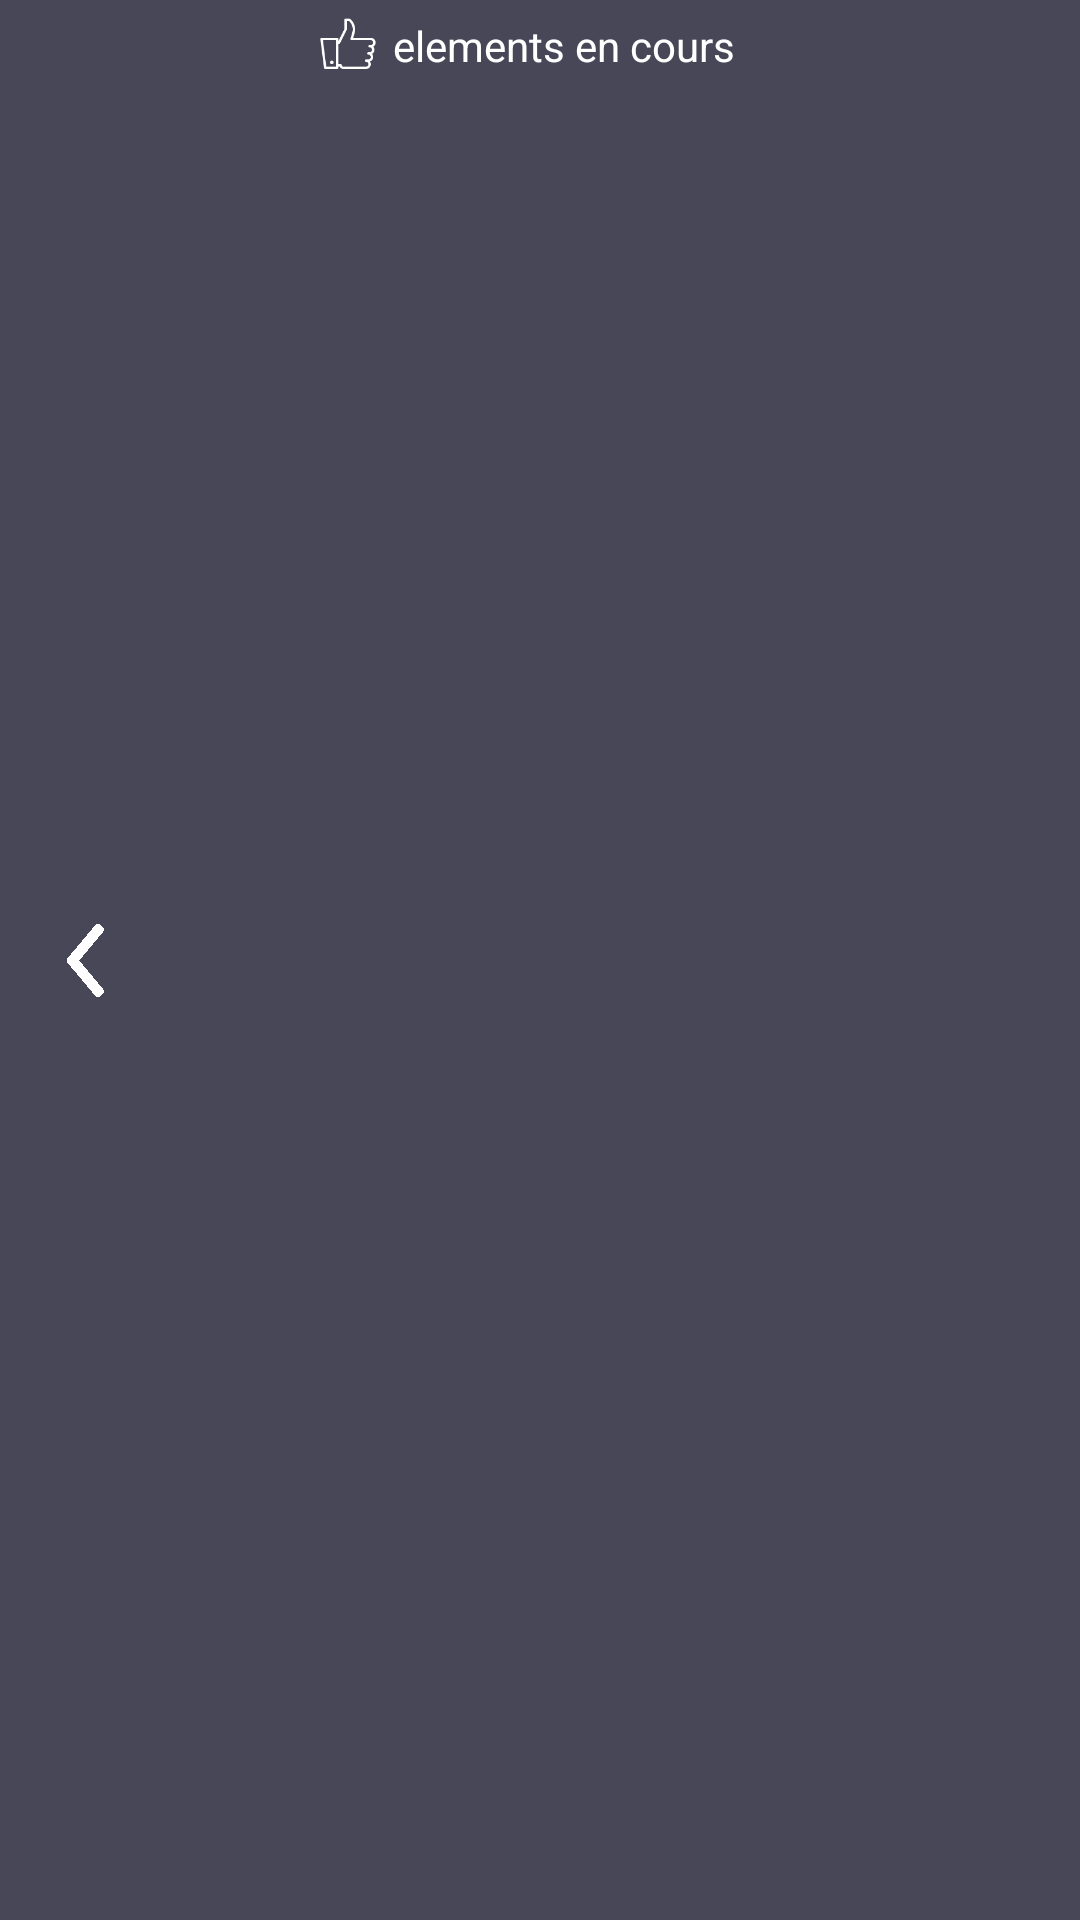

Named icons in this screenshot (1080*1920) and their centers, (x,y):
left arrow: (85,960)
thumb blanc: (348,43)
